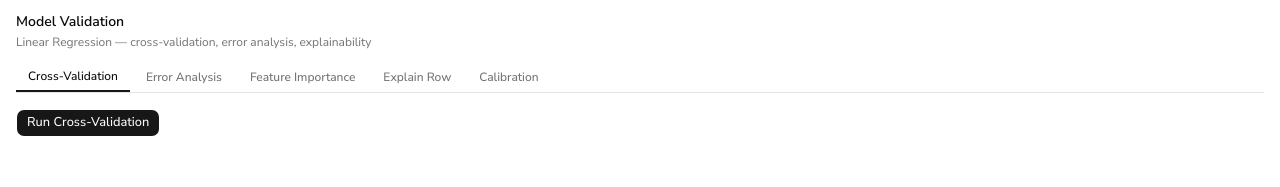
Test case: ValidationPanel — feature importance tab › shows error when importance API fails
This screenshot has width=1280, height=187.
Click the tab "Feature Importance". click: {"x": 303, "y": 77}
box: [238,62,367,92]
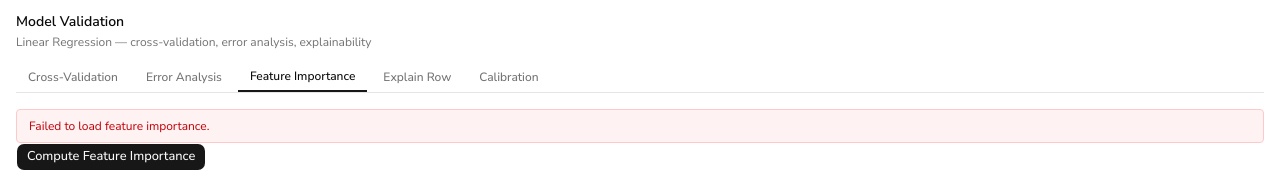
Expected: the text "Failed to load feature importance." is shown, [16,109,1264,143]
